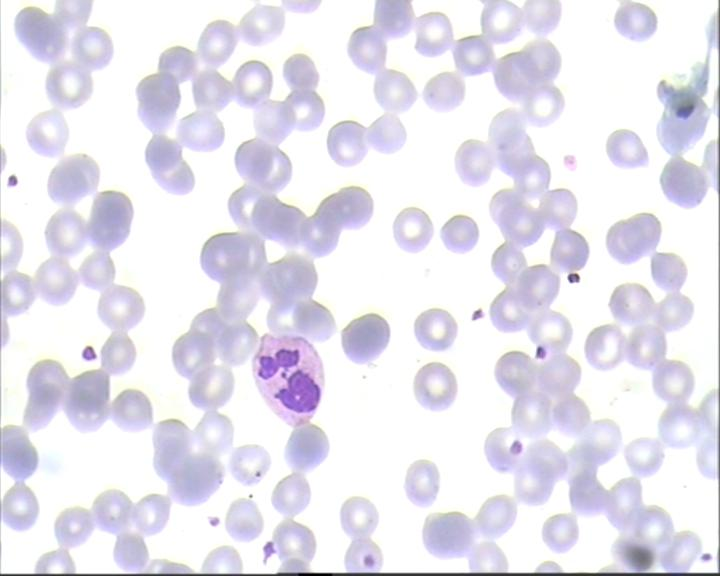neut: (248, 328, 324, 432)
